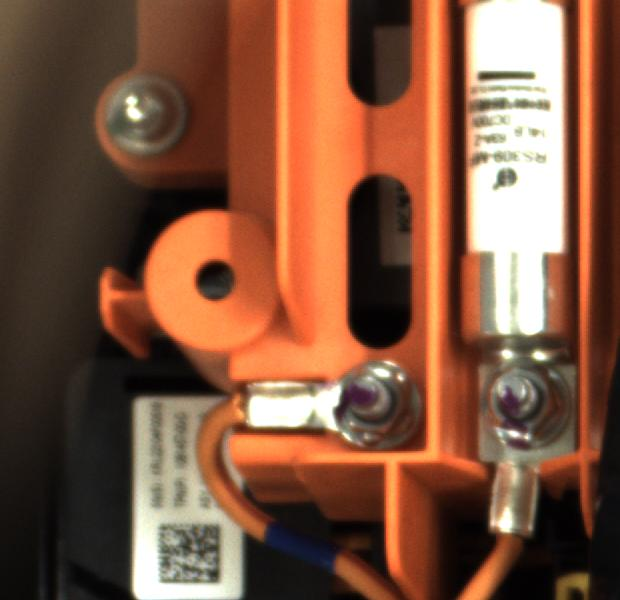screw_m: (94, 68, 202, 167)
screw_s: (320, 351, 421, 448), (476, 347, 570, 443)
